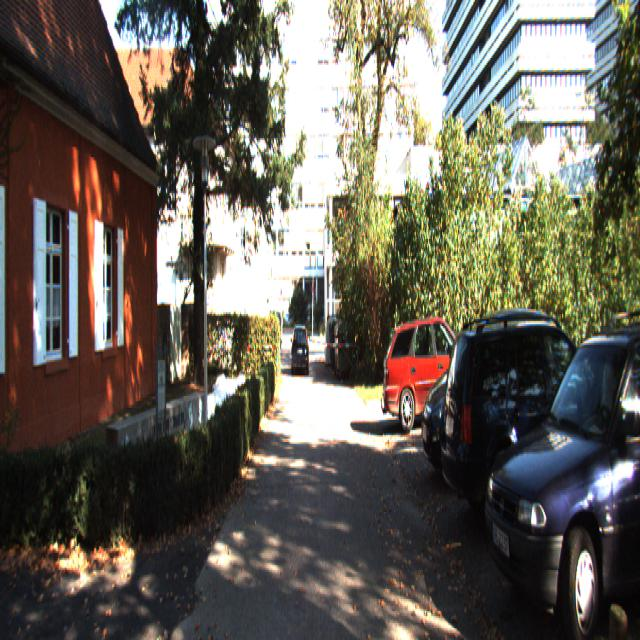Car: (474, 301, 640, 638), (439, 305, 640, 536), (420, 307, 570, 493), (382, 312, 494, 432), (292, 323, 309, 378)
